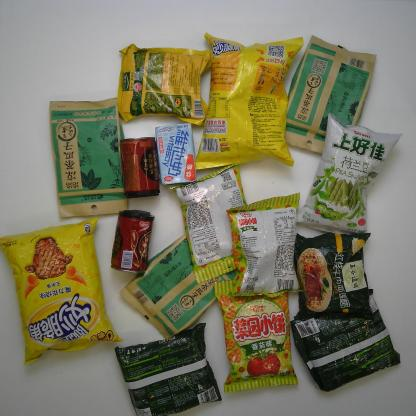Canned Food: (110, 207, 154, 275), (118, 136, 161, 200)
Dried Food: (119, 223, 248, 338), (278, 35, 376, 157), (48, 96, 129, 218)
Instant Noodles: (289, 287, 401, 393), (114, 322, 222, 413), (292, 232, 379, 322)
Milk: (154, 122, 197, 187)
Puffed Food: (0, 216, 122, 363), (192, 32, 305, 170), (292, 112, 404, 238), (170, 162, 257, 283), (212, 276, 299, 393), (226, 192, 299, 298)
Seasoner: (113, 43, 212, 126)
